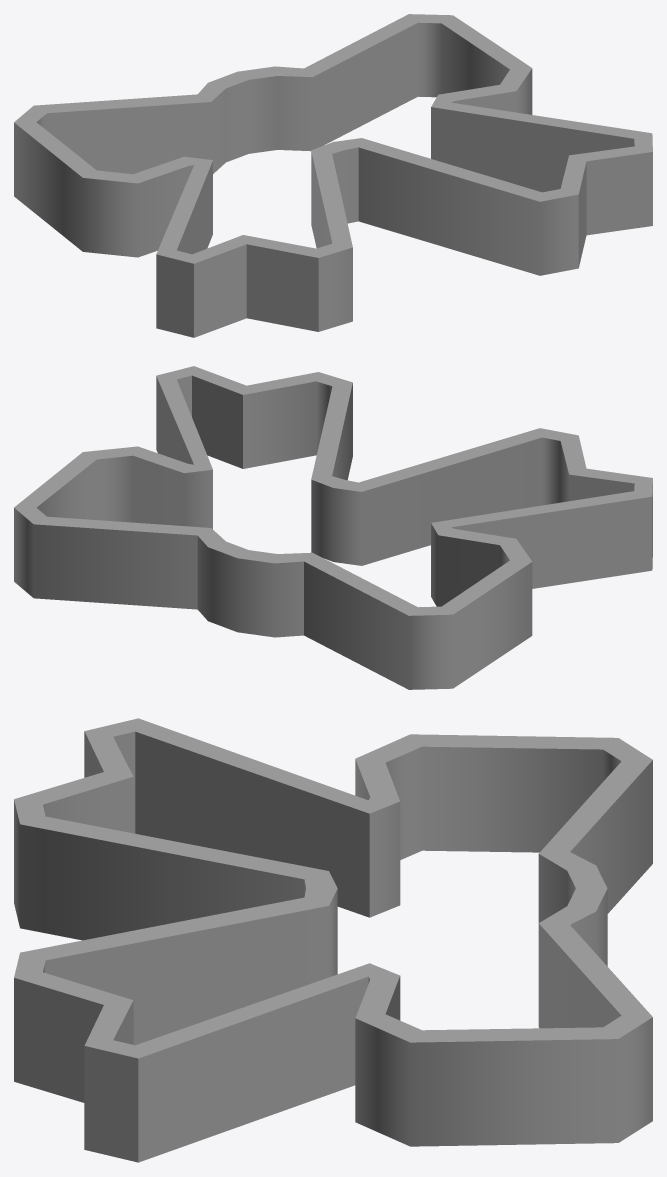
File: BiscuitCutter_BowTie_01.fbx
3 views of the same model, one above another, from view 1: azimuth 30°, elevation 25°; view 2: azimuth 150°, elevation 25°; view 3: azimuth 270°, elevation 25° (orthographic). The views are drawn at different scales.
Parts seen in each view (by area): view 1: BiscuitCutter_BowTie_01; view 2: BiscuitCutter_BowTie_01; view 3: BiscuitCutter_BowTie_01.
Part boxes in pixels (x1,y1,x2,y2): BiscuitCutter_BowTie_01: [14, 14, 652, 337]; BiscuitCutter_BowTie_01: [14, 366, 652, 689]; BiscuitCutter_BowTie_01: [14, 718, 652, 1162].
Size of the model in its own units: 0.0895 by 0.0128 by 0.071.
